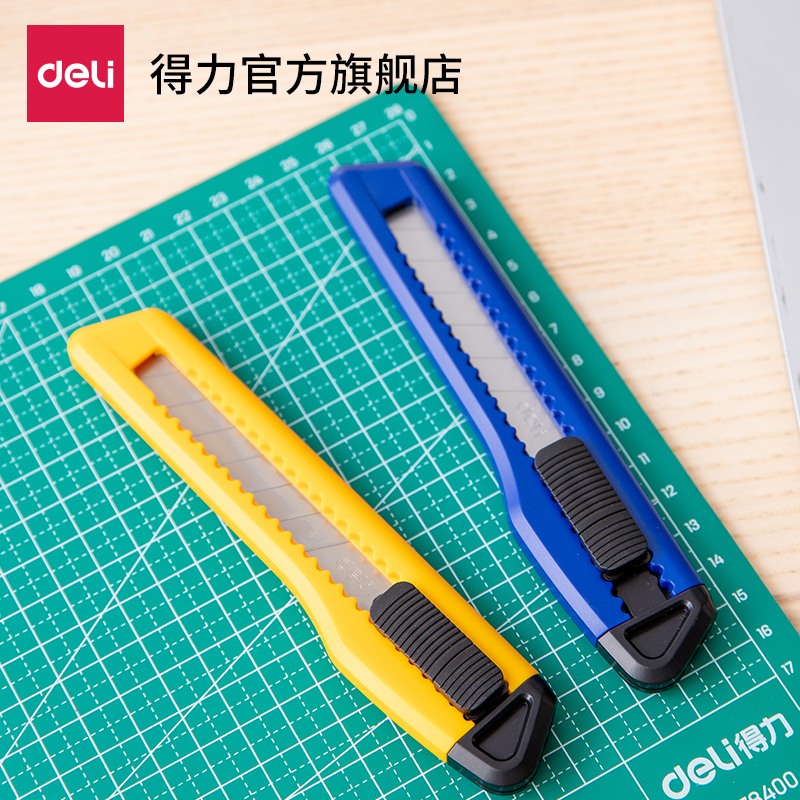cutter: (65, 306, 560, 795), (324, 160, 720, 697)
